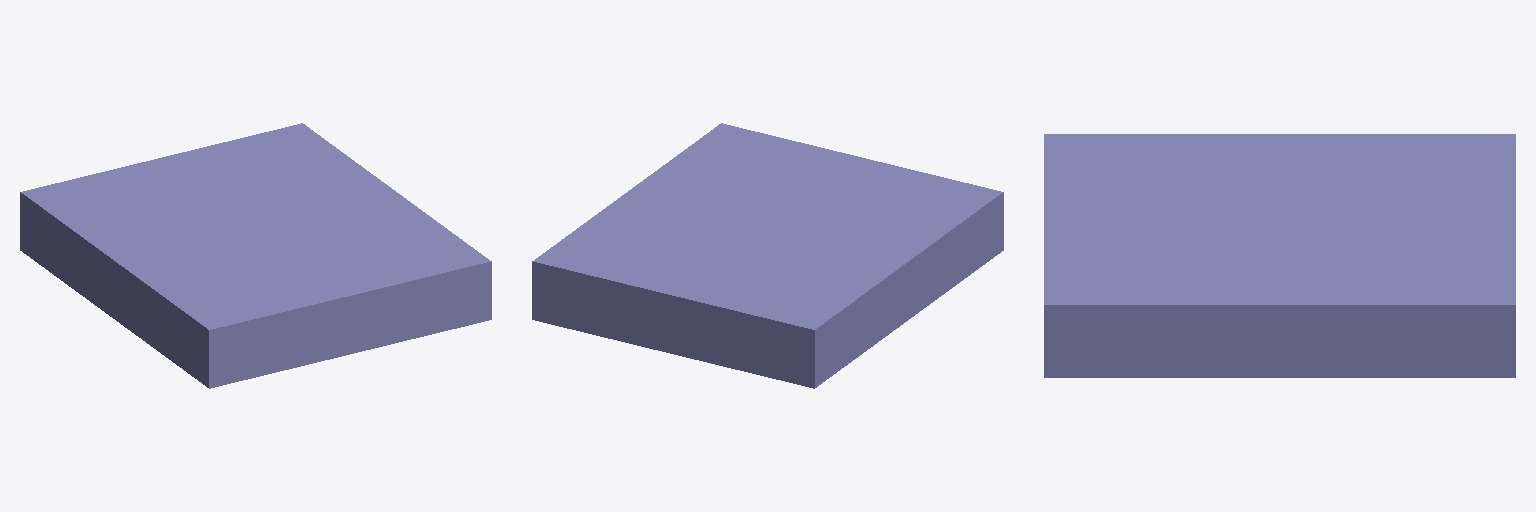
URDF robot description (box.urdf):
<?xml version="1.0" ?>
<robot name="box.urdf">
  <link name="baseLink">
    <contact>
      <lateral_friction value="1.0"/>
      <rolling_friction value="0.0001"/>
      <inertia_scaling value="3.0"/>
    </contact>
    <inertial>
      <origin rpy="0 0 0" xyz="0 0 0"/>
       <mass value="0.1"/>
       <inertia ixx="1" ixy="0" ixz="0" iyy="1" iyz="0" izz="1"/>
    </inertial>
    <visual>
      <origin rpy="0 0 0" xyz="0 0 0"/>
      <geometry>
        <!-- <box size="0.63 0.73 0.125"/> -->
        <mesh filename="box/box.obj" scale="0.63 0.73 0.125"/>
      </geometry>
      <material name="white">
        <color rgba="0.6 0.6 0.8 1"/>
      </material>
    </visual>
    <collision>
      <origin rpy="0 0 0" xyz="0 0 0"/>
      <geometry>
        <mesh filename="box/box.obj" scale="0.63 0.73 0.125"/>
	 	    <!-- <box size="0.63 0.73 0.125"/> -->
      </geometry>
    </collision>
  </link>
</robot>

--- Facts derived from the render (not from the file) ---
Views: 3 orthographic renders of the robot side by side, from view 1: azimuth 30°, elevation 25°; view 2: azimuth 150°, elevation 25°; view 3: azimuth 270°, elevation 25°.
Robot: box.urdf — 1 links, 0 joints (none); root link baseLink; default pose: every joint at zero.
Links seen in each view (by area): view 1: baseLink; view 2: baseLink; view 3: baseLink.
Link boxes in pixels (box(x1,y1,x2,y2)): baseLink: box(20, 123, 491, 388); baseLink: box(532, 123, 1003, 388); baseLink: box(1044, 134, 1515, 377).
Bounding box of the posed robot: 0.63 × 0.73 × 0.125 m (x, y, z).
1 mesh visuals loaded from 1 distinct referenced files (1 OBJ).
